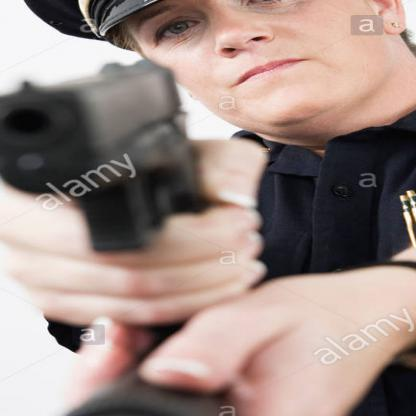gun: (0, 51, 214, 268)
